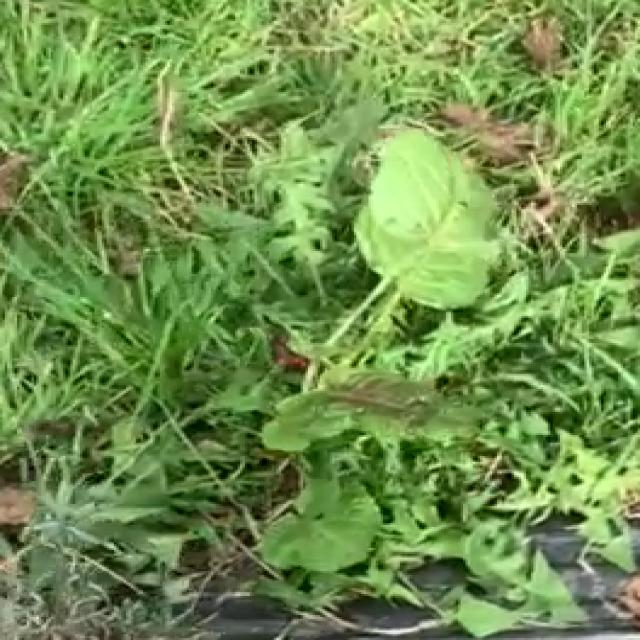organic waste: (226, 88, 596, 588)
